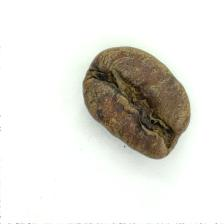NG: (92, 53, 171, 152)
